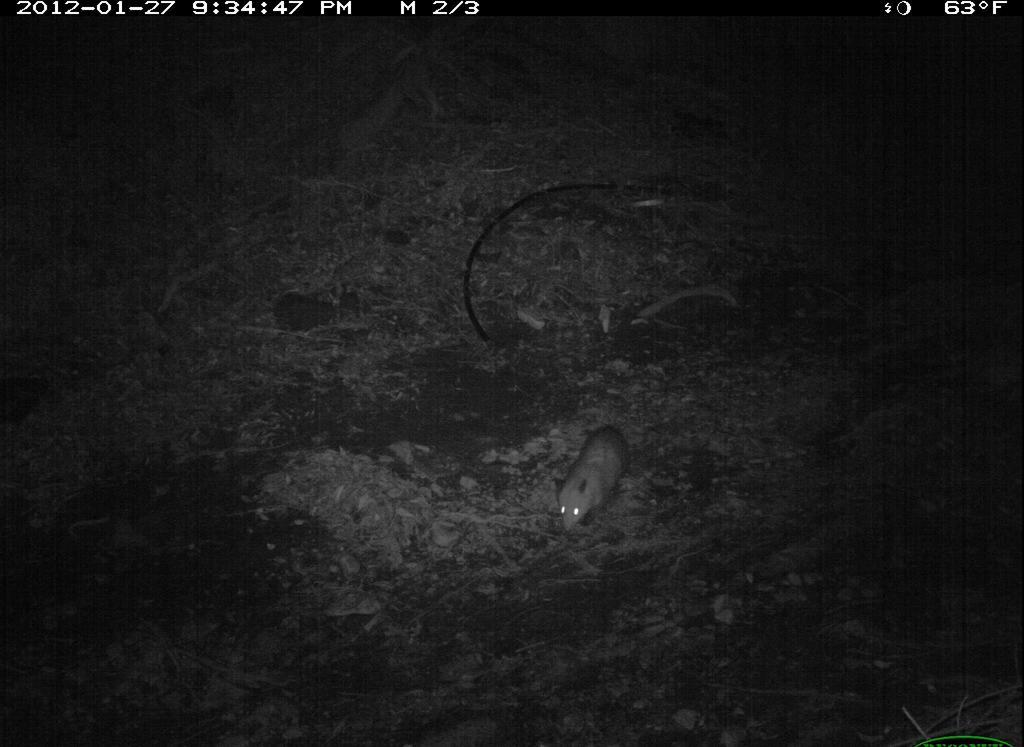opossum: (548, 402, 649, 562)
